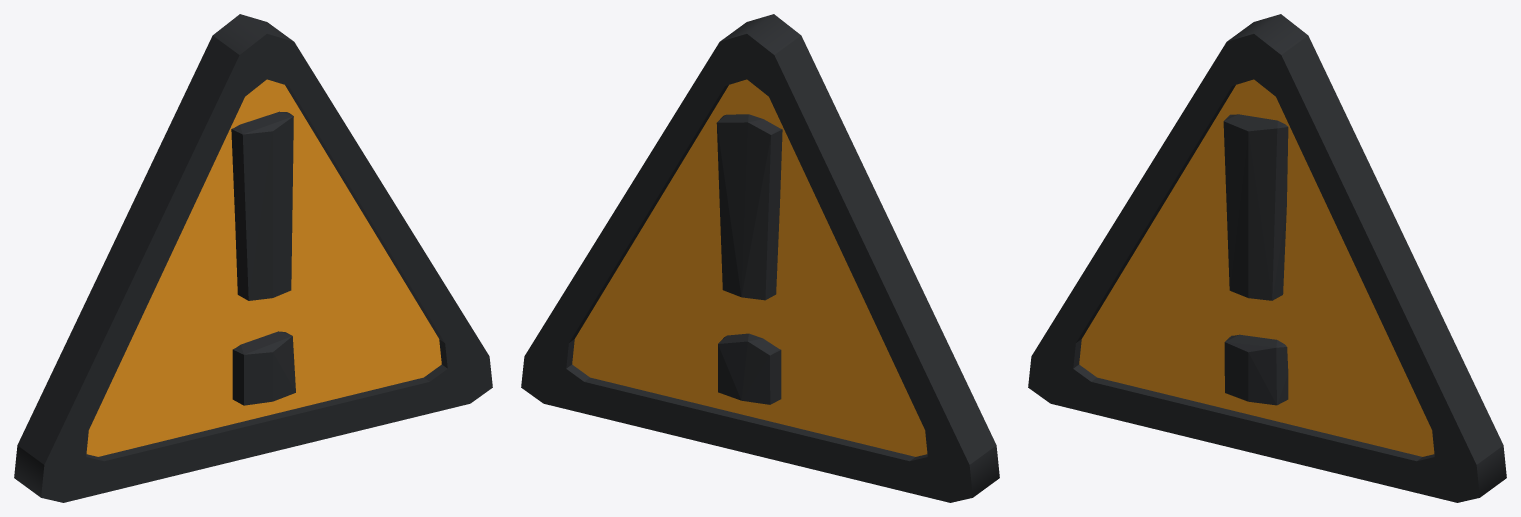
The model's file is SM_Icon_Warning_01.fbx.
The picture shows the model from 3 angles, left to right: view 1: azimuth 30°, elevation 25°; view 2: azimuth 150°, elevation 25°; view 3: azimuth 330°, elevation 25°; orthographic projection.
Parts seen in each view (by area): view 1: SM_Icon_Warning_01; view 2: SM_Icon_Warning_01; view 3: SM_Icon_Warning_01.
Boxes of the visible parts, bbox=[...] form: SM_Icon_Warning_01: bbox=[14, 14, 492, 502]; SM_Icon_Warning_01: bbox=[521, 14, 999, 502]; SM_Icon_Warning_01: bbox=[1028, 14, 1506, 502].
Size of the model in its own units: 65.24 by 57.9 by 9.66.
